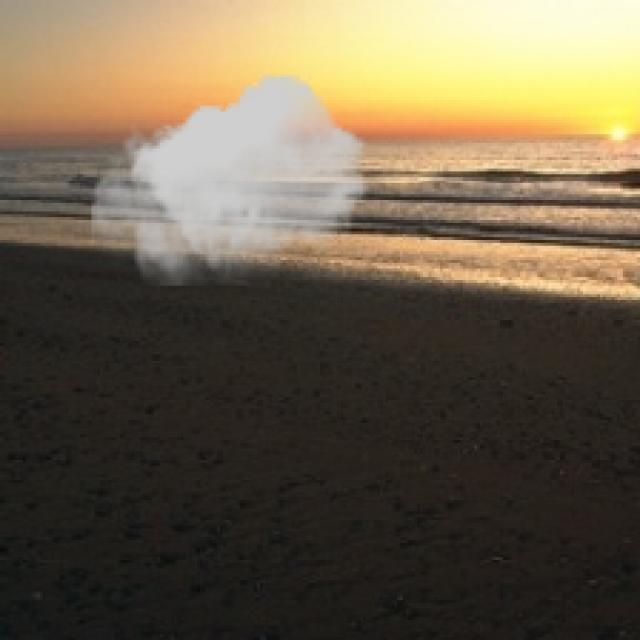smoke: (92, 74, 368, 286)
